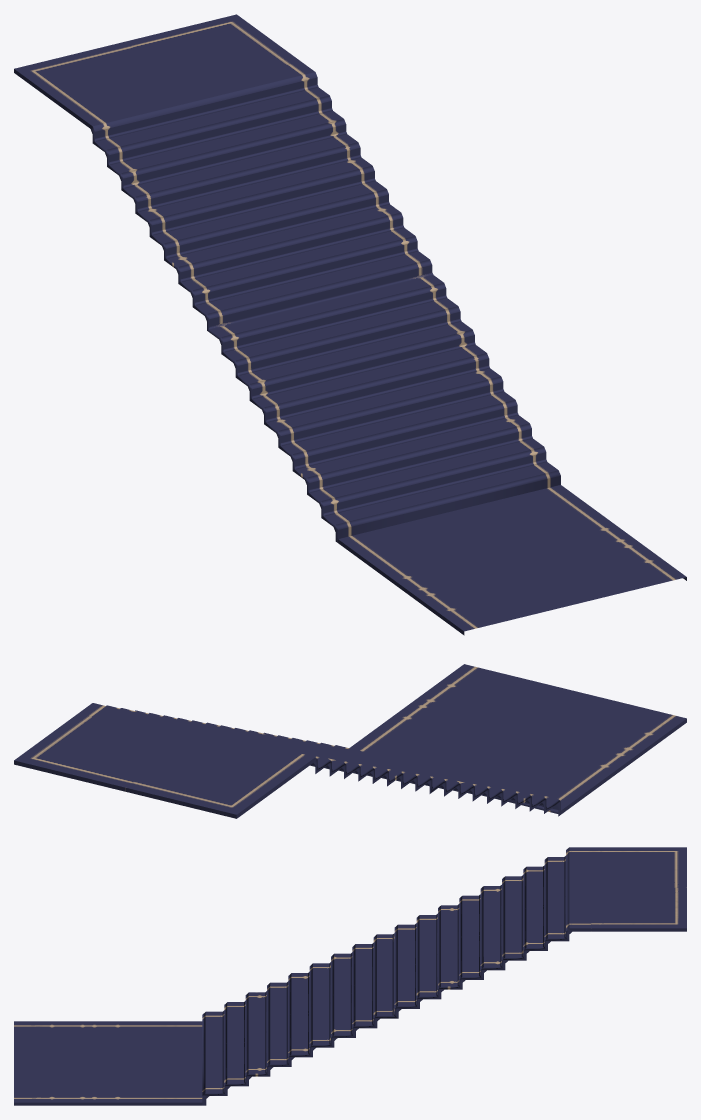
The model's file is SM_Carpet_Stair_02.fbx.
3 renders of one model, top to bottom at view 1: azimuth 30°, elevation 25°; view 2: azimuth 150°, elevation 25°; view 3: azimuth 270°, elevation 25°, orthographic. The views are drawn at different scales.
Visible parts, largest first — view 1: SM_Carpet_Stair_02; view 2: SM_Carpet_Stair_02; view 3: SM_Carpet_Stair_02.
Part boxes in pixels (x1,y1,x2,y2): SM_Carpet_Stair_02: (14, 14, 686, 635); SM_Carpet_Stair_02: (14, 664, 686, 818); SM_Carpet_Stair_02: (14, 847, 686, 1105).
Size of the model in its own units: 2 by 2.04 by 7.
1 material, 1 textured.
